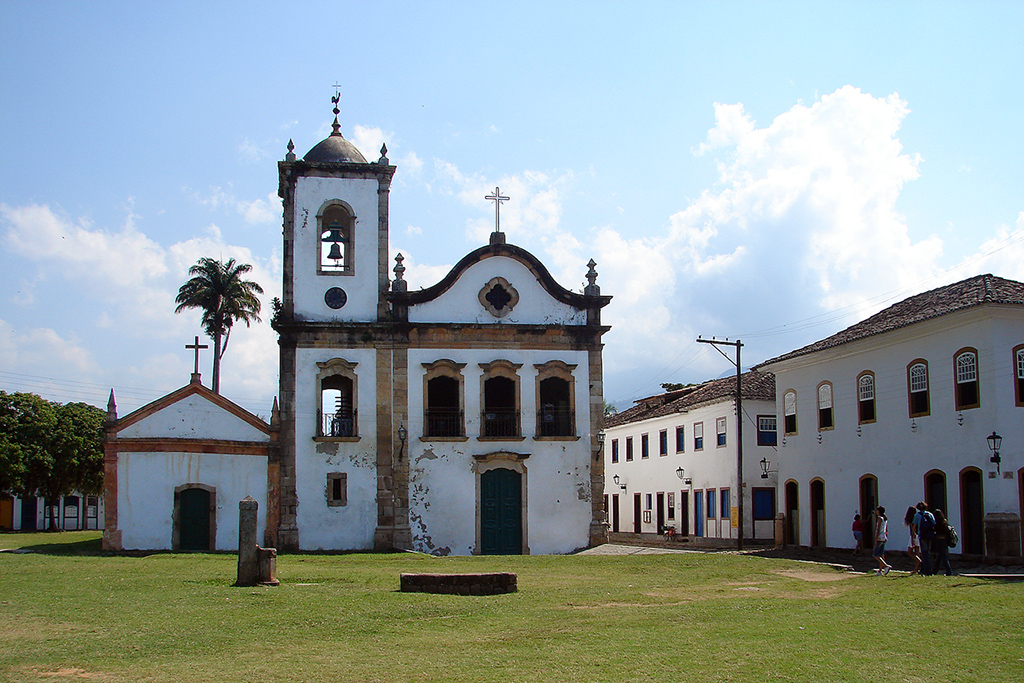fachada: (283, 95, 607, 558), (772, 272, 1024, 558), (110, 343, 288, 560), (607, 358, 773, 553)
poste: (693, 333, 763, 552)
